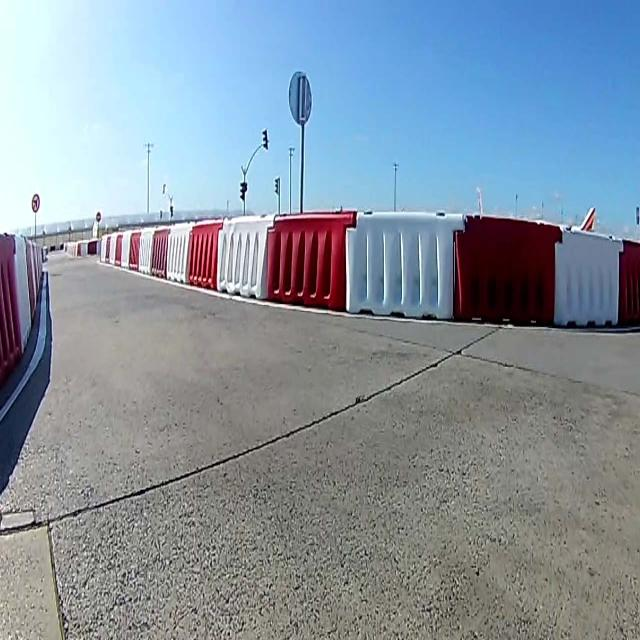soladonulmez: (32, 192, 40, 213)
